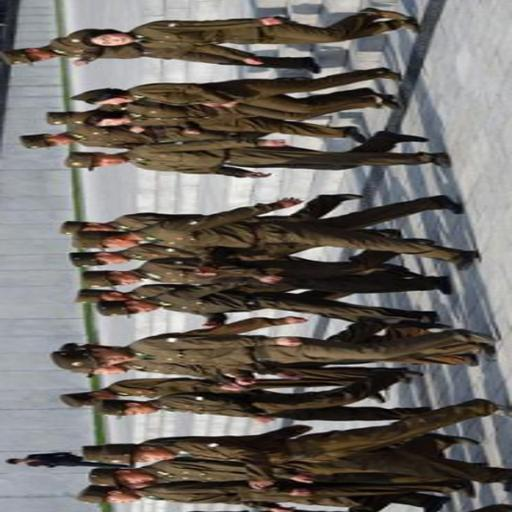north army: (0, 3, 496, 512)
